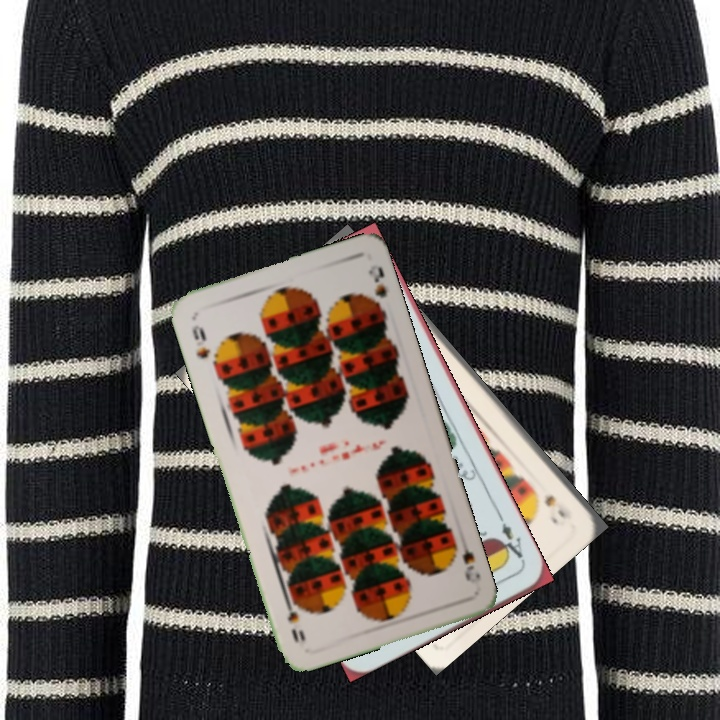EA: (493, 511, 528, 566)
S10: (540, 490, 575, 522)
S9: (449, 532, 483, 584), (188, 321, 214, 362)
